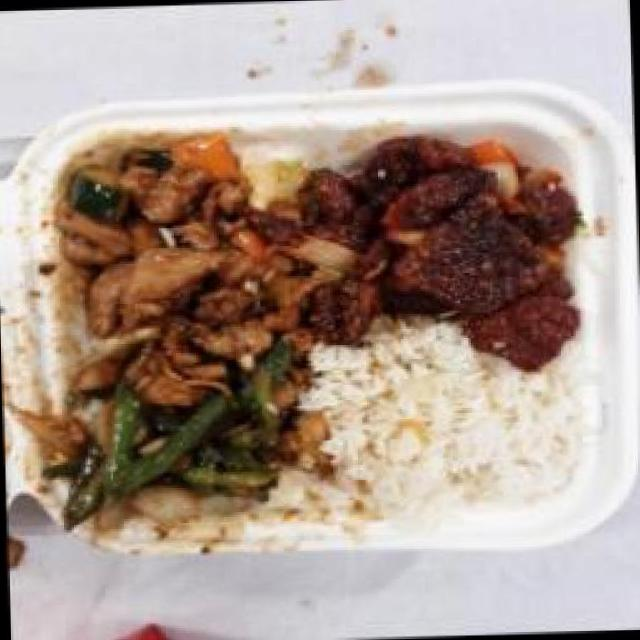Beijing Beef: (296, 120, 594, 384)
Kung Pao Chicken: (42, 127, 316, 376)
String Bean Chicken Breast: (50, 343, 304, 527)
White Steamed Rice: (313, 340, 579, 526)
